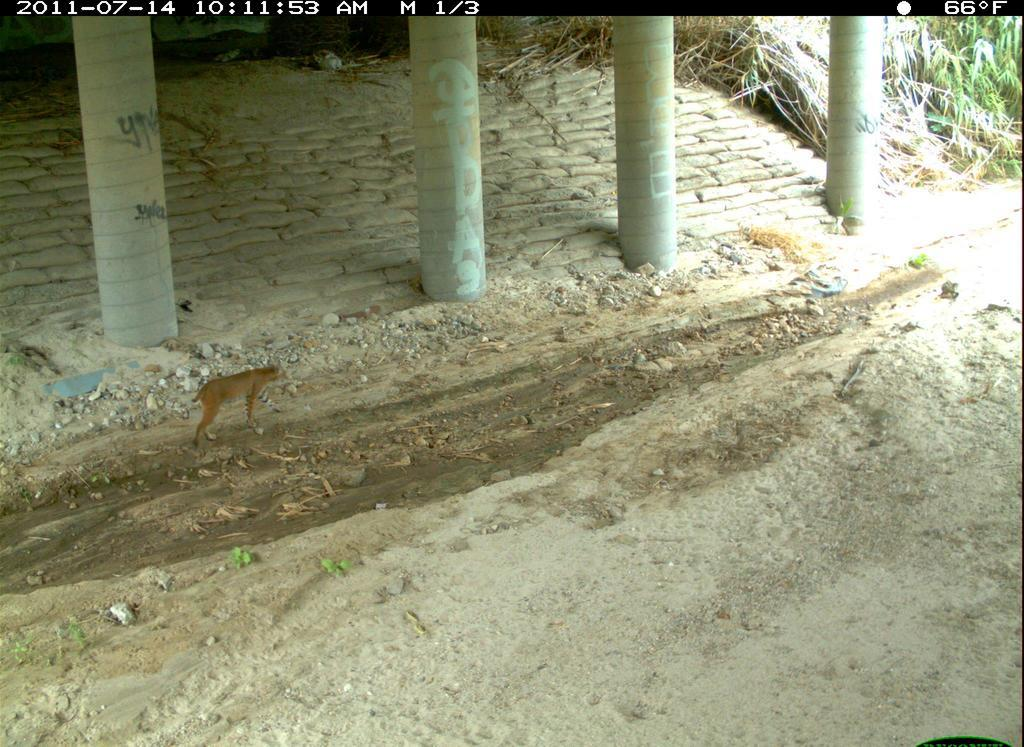bobcat: (369, 707, 588, 747)
